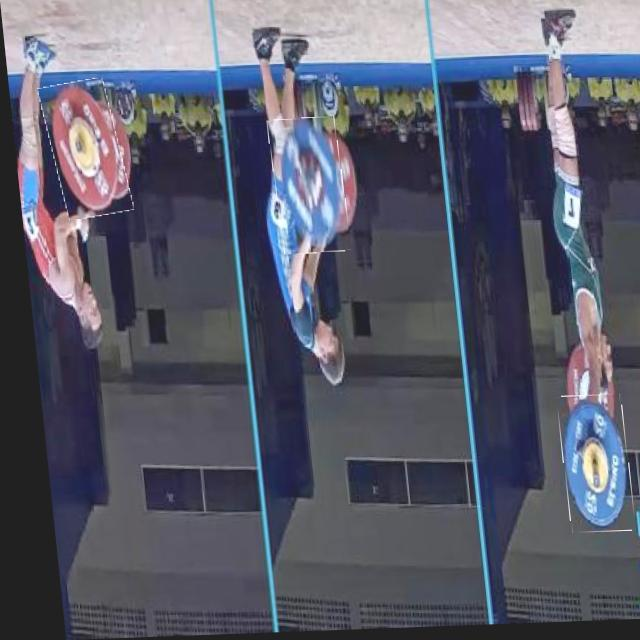barbell: (40, 81, 126, 220), (265, 120, 346, 257), (549, 399, 624, 537)
